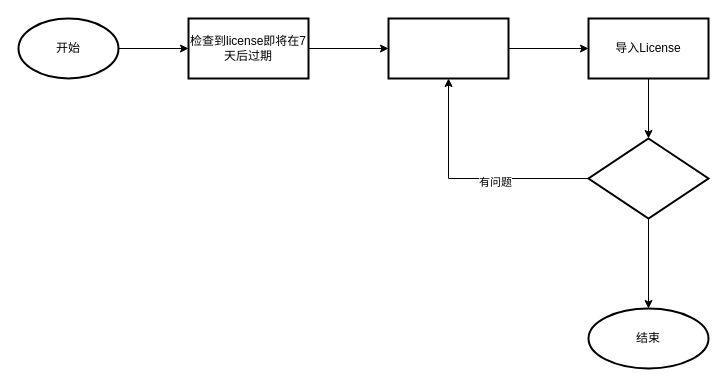
Some shapes in this 726 by 386 pixel diagram are drawn without their labels. Each missing label, with the box of its shape:
检查production device 数量: (587, 137, 709, 219)
获取VD NodeID，发给Versa: (387, 17, 509, 79)
